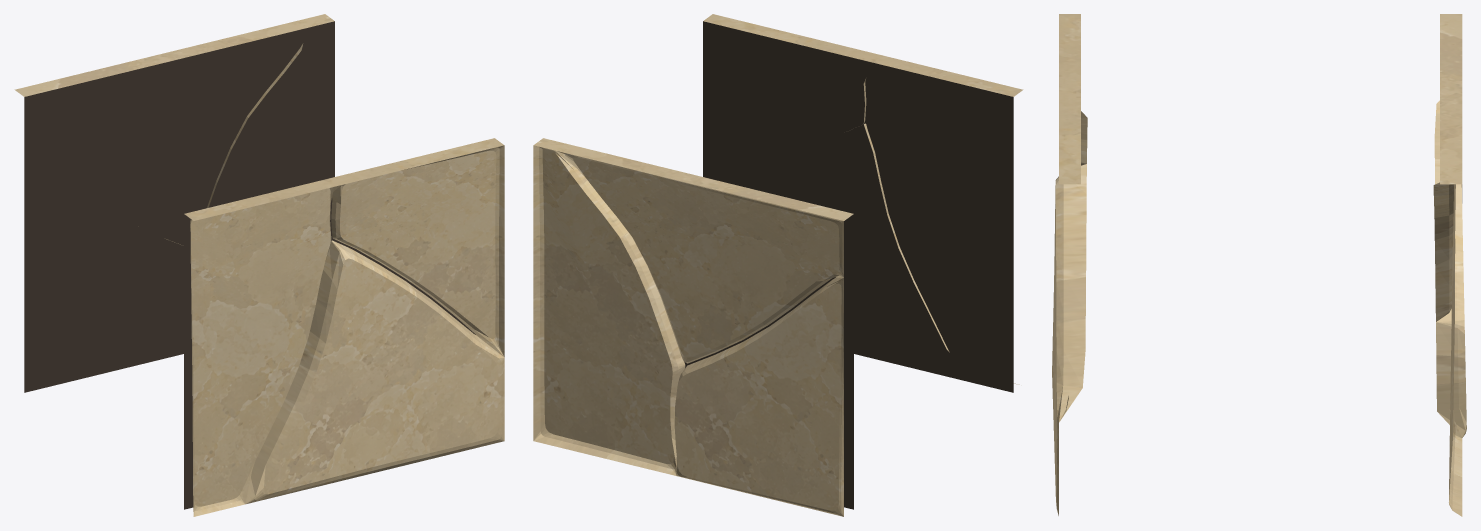
Rendered from ground_strip_09.glb.
3 views of the same model, side by side, from view 1: azimuth 30°, elevation 25°; view 2: azimuth 150°, elevation 25°; view 3: azimuth 270°, elevation 25° (orthographic). The views are drawn at different scales.
Parts seen in each view (by area): view 1: GroundStrip09_Body; view 2: GroundStrip09_Body; view 3: GroundStrip09_Body.
Part boxes in pixels (bbox=[...]): GroundStrip09_Body: bbox=[14, 14, 504, 516]; GroundStrip09_Body: bbox=[533, 14, 1023, 516]; GroundStrip09_Body: bbox=[1052, 14, 1466, 516].
Size of the model in its own units: 1 by 0.91 by 1.03.
Materials: 8 (7 with a texture image).
